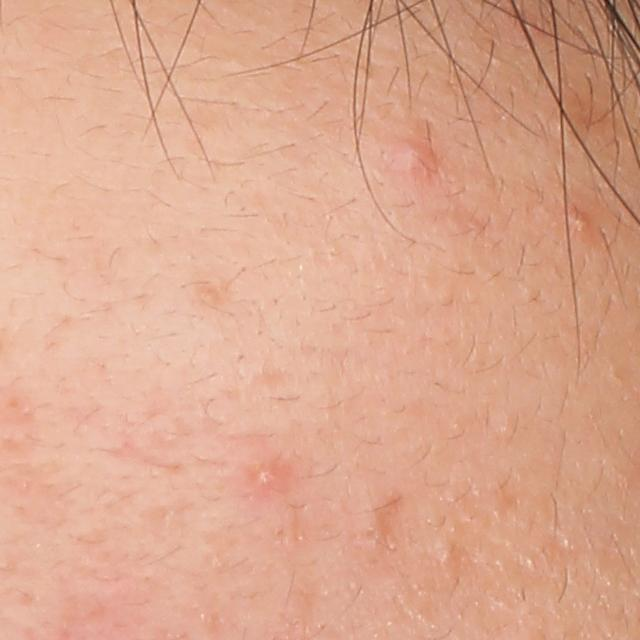comedo: (428, 536, 466, 573)
papule: (382, 138, 435, 178), (558, 207, 596, 242)
